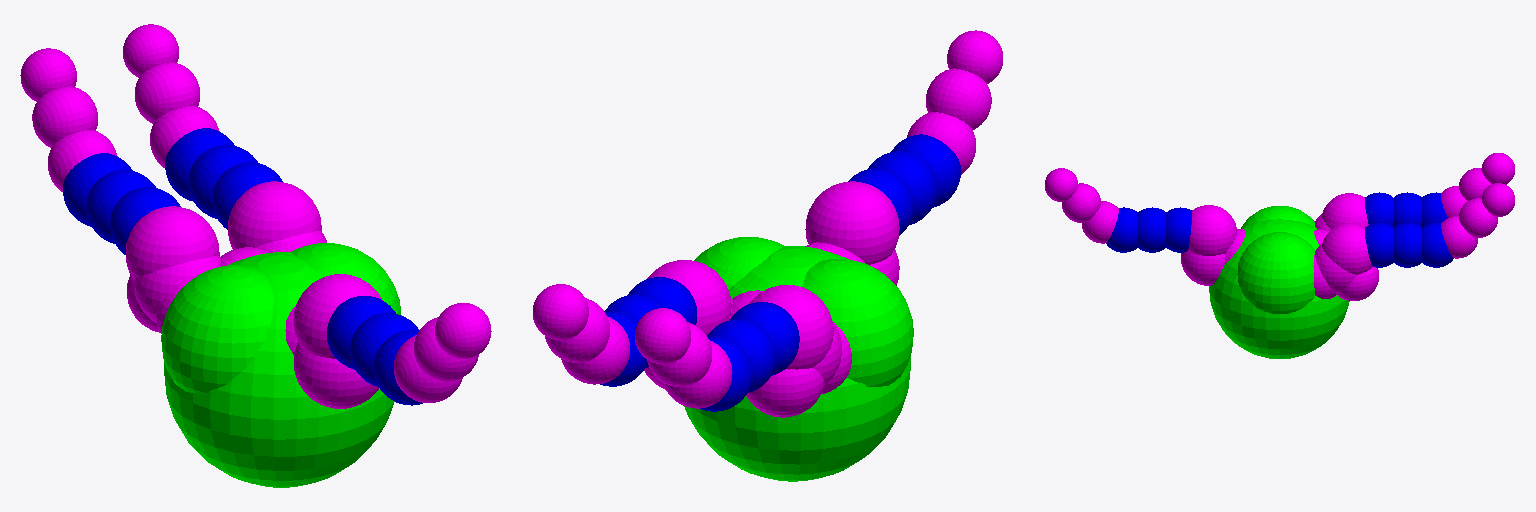
--- What the picture shows (computed from the rendered views, not written in the file) ---
The picture shows the robot from 3 angles, left to right: view 1: azimuth 30°, elevation 25°; view 2: azimuth 150°, elevation 25°; view 3: azimuth 270°, elevation 25°; orthographic projection.
Robot: bhand_model — 50 links, 49 joints (11 revolute, 3 prismatic, 35 fixed); root link base_link_x; default pose: every joint at zero.
Links seen in each view (by area): view 1: base_link_collision_ball_4, base_link_collision_ball_6, finger_2_prox_link_collision_ball_4, finger_1_prox_link_collision_ball_4, base_link_collision_ball_3, base_link_collision_ball_2, finger_2_dist_link_collision_ball_1, finger_1_dist_link_collision_ball_1, base_link_collision_ball_5, finger_3_dist_link_collision_ball_2, finger_3_med_link_collision_ball_1, finger_1_med_liink_collision_ball_1 (+16 smaller); view 2: base_link_collision_ball_4, base_link_collision_ball_6, base_link_collision_ball_3, finger_2_prox_link_collision_ball_4, finger_3_dist_link_collision_ball_1, finger_1_prox_link_collision_ball_4, finger_2_prox_link_collision_ball_2, finger_2_dist_link_collision_ball_2, finger_1_dist_link_collision_ball_2, base_link_collision_ball_5, finger_2_med_link_collision_ball_1, finger_2_med_link_collision_ball_0 (+15 smaller); view 3: base_link_collision_ball_4, base_link_collision_ball_5, base_link_collision_ball_3, finger_1_prox_link_collision_ball_4, finger_2_prox_link_collision_ball_4, finger_1_med_liink_collision_ball_1, finger_3_med_link_collision_ball_1, finger_1_med_liink_collision_ball_0, base_link_collision_ball_2, finger_1_dist_link_collision_ball_1, finger_3_dist_link_collision_ball_1, finger_3_med_link_collision_ball_0 (+15 smaller).
Boxes of the visible links, x1,y1,x2,y2 form: base_link_collision_ball_4: (164,252,394,487); base_link_collision_ball_6: (161,265,273,393); finger_2_prox_link_collision_ball_4: (126,206,219,279); finger_1_prox_link_collision_ball_4: (228,181,321,249); base_link_collision_ball_3: (293,274,382,358); base_link_collision_ball_2: (294,342,378,408); finger_2_dist_link_collision_ball_1: (32,86,97,147); finger_1_dist_link_collision_ball_1: (135,62,199,123); base_link_collision_ball_5: (290,243,401,315); finger_3_dist_link_collision_ball_2: (435,303,491,358); finger_3_med_link_collision_ball_1: (350,313,418,386); finger_1_med_liink_collision_ball_1: (189,145,257,218); base_link_collision_ball_4: (684,246,910,481); base_link_collision_ball_6: (802,259,913,386); base_link_collision_ball_3: (805,181,899,264); finger_2_prox_link_collision_ball_4: (749,285,833,369); finger_3_dist_link_collision_ball_1: (926,68,991,129); finger_1_prox_link_collision_ball_4: (647,260,731,334); finger_2_prox_link_collision_ball_2: (746,368,824,417); finger_2_dist_link_collision_ball_2: (635,308,690,364); finger_1_dist_link_collision_ball_2: (533,284,588,340); base_link_collision_ball_5: (694,237,783,289); finger_2_med_link_collision_ball_1: (707,319,775,392); finger_2_med_link_collision_ball_0: (730,302,799,375); base_link_collision_ball_4: (1209,219,1349,358); base_link_collision_ball_5: (1237,232,1315,313); base_link_collision_ball_3: (1188,205,1236,255); finger_1_prox_link_collision_ball_4: (1322,223,1372,274); finger_2_prox_link_collision_ball_4: (1322,193,1368,229); finger_1_med_liink_collision_ball_1: (1394,222,1421,267); finger_3_med_link_collision_ball_1: (1138,207,1165,252); finger_1_med_liink_collision_ball_0: (1365,222,1393,267); base_link_collision_ball_2: (1181,251,1224,285); finger_1_dist_link_collision_ball_1: (1459,198,1497,237); finger_3_dist_link_collision_ball_1: (1062,183,1100,222); finger_3_med_link_collision_ball_0: (1166,207,1191,252).
Bounding box of the posed robot: 0.108 × 0.3319 × 0.1428 m (x, y, z).
0 mesh visuals loaded from 4 distinct referenced files (none loaded); not drawn: 9 (reference not matched to a file when rendering).

robot.urdf — bhand_model:
<robot name="bhand_model">
  <link name="base_link_x"/>

  <joint name="dummy_x_translation_joint" type="prismatic">
    <parent link="base_link_x"/>
    <child link="base_link_y"/>
    <origin rpy="0 0 0" xyz="0 0 0"/>
    <axis xyz="1 0 0"/>
    <limit effort="300" lower="-10" upper="10" velocity="2.1750"/>
  </joint>

  <link name="base_link_y"/>

  <joint name="dummy_y_translation_joint" type="prismatic">
    <parent link="base_link_y"/>
    <child link="base_link_z"/>
    <origin rpy="0 0 0" xyz="0 0 0"/>
    <axis xyz="0 1 0"/>
    <limit effort="300" lower="-10" upper="10" velocity="2.1750"/>
  </joint>

  <link name="base_link_z"/>

  <joint name="dummy_z_translation_joint" type="prismatic">
    <parent link="base_link_z"/>
    <child link="base_link_roll"/>
    <origin rpy="0 0 0" xyz="0 0 0"/>
    <axis xyz="0 0 1"/>
    <limit effort="300" lower="-10" upper="10" velocity="2.1750"/>
  </joint>

  <link name="base_link_roll"/>

  <joint name="dummy_x_rotation_joint" type="revolute">
    <parent link="base_link_roll"/>
    <child link="base_link_pitch"/>
    <origin rpy="0 0 0" xyz="0 0 0"/>
    <axis xyz="1 0 0"/>
    <limit effort="100.95" velocity="108.48" lower="-6.283185" upper="6.283185"/>
  </joint>

  <link name="base_link_pitch"/>

  <joint name="dummy_y_rotation_joint" type="revolute">
    <parent link="base_link_pitch"/>
    <child link="base_link_yaw"/>
    <origin rpy="0 0 0" xyz="0 0 0"/>
    <axis xyz="0 1 0"/>
    <limit effort="100.95" velocity="108.48" lower="-6.283185" upper="6.283185"/>
  </joint>

  <link name="base_link_yaw"/>

  <joint name="dummy_z_rotation_joint" type="revolute">
    <parent link="base_link_yaw"/>
    <child link="base_link"/>
    <origin rpy="0 0 0" xyz="0 0 0"/>
    <axis xyz="0 0 1"/>
    <limit effort="100.95" velocity="108.48" lower="-6.283185" upper="6.283185"/>
  </joint>


  <link name="base_link">
    <inertial>
      <origin xyz="-1.53444878605399E-05 -0.00277693660903533 0.0352882290973172" rpy="0 0 0"/>
      <mass value="0.377966381303299"/>
      <inertia ixx="0.000427326373018601" ixy="2.6443337984506E-07" ixz="-2.02908063714989E-07" iyy="0.000361316175967098" iyz="-3.0792687327603E-05" izz="0.000376798128588446"/>
    </inertial>
    <visual>
      <origin xyz="0 0 0" rpy="0 0 0"/>
      <geometry>
        <mesh filename="meshes/visual/base_link.obj"/>
      </geometry>
    </visual>
    <collision> 
      <origin xyz="0 0 0" rpy="0 0 0"/>
      <geometry>
        <mesh filename="meshes/collision/base_link_cylinder.obj"/>
      </geometry>
    </collision>
    <collision> 
      <origin xyz="0 -0.011 0.054" rpy="0 0 0"/>
      <geometry>
        <box size="0.026 0.108 0.026"/>
      </geometry>
    </collision>
    <collision>
      <origin xyz="0 0 0.072" rpy="0 0 0"/>
      <geometry>
        <box size="0.076 0.046 0.014"/>
      </geometry>
    </collision>
    <collision>
      <origin xyz="0 0.032 0.068" rpy="-0.39 0 0"/>
      <geometry>
        <box size="0.026 0.02 0.01"/>
      </geometry>
    </collision>
    <collision>
      <origin xyz="0 -0.035 0.07" rpy="-1.03 0 0"/>
      <geometry>
        <box size="0.026 0.02 0.01"/>
      </geometry>
    </collision>
  </link>

  <!-- base_link balls -->

   <link name="base_link_collision_ball_0">
    <visual>
    <geometry>
    <sphere radius="0.02"/>
    </geometry>
    <material name="purple">
    <color rgba="1.0 0.0 1.0 1.0"/>
    </material>
    </visual>
    <collision>
    <geometry>
    <sphere radius="0.02"/>
    </geometry>
    </collision>
  </link>
  <joint name="base_link_collision_ball_0_joint" type="fixed">
    <parent link="base_link"/>
    <child link="base_link_collision_ball_0"/>
    <origin rpy="0 0 0" xyz="0.0 0.028 0.056 "/>
  </joint>


   <link name="base_link_collision_ball_1">
    <visual>
    <geometry>
    <sphere radius="0.02"/>
    </geometry>
    <material name="purple">
    <color rgba="1.0 0.0 1.0 1.0"/>
    </material>
    </visual>
    <collision>
    <geometry>
    <sphere radius="0.02"/>
    </geometry>
    </collision>
  </link>
  <joint name="base_link_collision_ball_1_joint" type="fixed">
    <parent link="base_link"/>
    <child link="base_link_collision_ball_1"/>
    <origin rpy="0 0 0" xyz="0.0 -0.028 0.056 "/>
  </joint>

  <link name="base_link_collision_ball_2">
    <visual>
    <geometry>
    <sphere radius="0.02"/>
    </geometry>
    <material name="purple">
    <color rgba="1.0 0.0 1.0 1.0"/>
    </material>
    </visual>
    <collision>
    <geometry>
    <sphere radius="0.02"/>
    </geometry>
    </collision>
  </link>
  <joint name="base_link_collision_ball_2_joint" type="fixed">
    <parent link="base_link"/>
    <child link="base_link_collision_ball_2"/>
    <origin rpy="0 0 0" xyz="0.0 -0.05 0.056 "/>
  </joint>


  <link name="base_link_collision_ball_3">
    <visual>
    <geometry>
    <sphere radius="0.02"/>
    </geometry>
    <material name="purple">
    <color rgba="1.0 0.0 1.0 1.0"/>
    </material>
    </visual>
    <collision>
    <geometry>
    <sphere radius="0.02"/>
    </geometry>
    </collision>
  </link>
  <joint name="base_link_collision_ball_3_joint" type="fixed">
    <parent link="base_link"/>
    <child link="base_link_collision_ball_3"/>
    <origin rpy="0 0 0" xyz="0.0 -0.05 0.075 "/>
  </joint>

  <link name="base_link_collision_ball_4">
    <visual>
    <geometry>
    <sphere radius="0.05"/>
    </geometry>
    <material name="green">
    <color rgba="0.0 1.0 0.0 1.0"/>
    </material>
    </visual>
    <collision>
    <geometry>
    <sphere radius="0.05"/>
    </geometry>
    </collision>
  </link>
  <joint name="base_link_collision_ball_4_joint" type="fixed">
    <parent link="base_link"/>
    <child link="base_link_collision_ball_4"/>
    <origin rpy="0 0 0" xyz="0.0 0.0 0.032 "/>
  </joint>
  

  <link name="base_link_collision_ball_5">
    <visual>
    <geometry>
    <sphere radius="0.032"/>
    </geometry>
    <material name="green">
    <color rgba="0.0 1.0 0.0 1.0"/>
    </material>
    </visual>
    <collision>
    <geometry>
    <sphere radius="0.032"/>
    </geometry>
    </collision>
  </link>
  <joint name="base_link_collision_ball_5_joint" type="fixed">
    <parent link="base_link"/>
    <child link="base_link_collision_ball_5"/>
    <origin rpy="0 0 0" xyz="0.022 0.0 0.051 "/>
  </joint> 

   <link name="base_link_collision_ball_6">
    <visual>
    <geometry>
    <sphere radius="0.032"/>
    </geometry>
    <material name="green">
    <color rgba="0.0 1.0 0.0 1.0"/>
    </material>
    </visual>
    <collision>
    <geometry>
    <sphere radius="0.032"/>
    </geometry>
    </collision>
  </link>
  <joint name="base_link_collision_ball_6_joint" type="fixed">
    <parent link="base_link"/>
    <child link="base_link_collision_ball_6"/>
    <origin rpy="0 0 0" xyz="-0.022 0.0 0.051 "/>
  </joint> 
  <!--  -->



  <link name="finger_1_prox_link">
    <inertial>
      <origin xyz="-0.288648917008988 9.98379746692153E-04 0.171253477569802" rpy="0 0 0"/>
      <mass value="56143.0626955765E-5"/>
      <inertia ixx="10.4484040652085E-5" ixy="-0.117861448219975E-5" ixz="-5.31613760585343E-5" iyy="33.9552353012776E-5" iyz="0.0780041192837706E-5" izz="29.3669090518615E-5"/>
    </inertial>
    <visual>
      <origin xyz="0 0 0" rpy="0 0 0"/>
      <geometry>
        <mesh filename="meshes/visual/prox_link.obj"/>
      </geometry>
    </visual>
    <collision>   <!-- finger1_prox_link -->
      <origin xyz="0 0 0" rpy="0 0 0"/>
      <geometry>
        <mesh filename="meshes/collision/prox_link_cylinder.obj"/>
      </geometry>
    </collision>
    <collision>
      <origin xyz="-0.029 0 0.012" rpy="0 0 0"/>
      <geometry>
        <box size="0.07 0.024 0.026"/>
      </geometry>
    </collision>
    <collision>
      <origin xyz="-0.036 0 0.03" rpy="0 1.029 0"/>
      <geometry>
        <box size="0.02 0.026 0.01"/>
      </geometry>
    </collision>
  </link>
  <joint name="finger_1_prox_joint" type="revolute">
    <origin xyz="0.025 0 0.0415" rpy="0 2.7051E-17 -1.5708"/>
    <parent link="base_link"/>
    <child link="finger_1_prox_link"/>
    <axis xyz="0 0 1"/>
    <limit lower="-3.14" upper="0" effort="0" velocity="10"/>
  </joint>

  <!-- finger_1_prox_link balls -->
  <link name="finger_1_prox_link_collision_ball_0">
    <visual>
    <geometry>
    <sphere radius="0.018"/>
    </geometry>
    <material name="purple">
    <color rgba="1.0 0.0 1.0 1.0"/>
    </material>
    </visual>
    <collision>
    <geometry>
    <sphere radius="0.018"/>
    </geometry>
    </collision>
  </link>
  <joint name="finger_1_prox_link_collision_ball_0_joint" type="fixed">
    <parent link="finger_1_prox_link"/>
    <child link="finger_1_prox_link_collision_ball_0"/>
    <origin rpy="0 0 0" xyz="-0.005 0 0.012 "/>
  </joint>
 
  <link name="finger_1_prox_link_collision_ball_1">
    <visual>
    <geometry>
    <sphere radius="0.018"/>
    </geometry>
    <material name="purple">
    <color rgba="1.0 0.0 1.0 1.0"/>
    </material>
    </visual>
    <collision>
    <geometry>
    <sphere radius="0.018"/>
    </geometry>
    </collision>
  </link>
  <joint name="finger_1_prox_link_collision_ball_1_joint" type="fixed">
    <parent link="finger_1_prox_link"/>
    <child link="finger_1_prox_link_collision_ball_1"/>
    <origin rpy="0 0 0" xyz="-0.028 0 0.012 "/>
  </joint>


  <link name="finger_1_prox_link_collision_ball_2">
    <visual>
    <geometry>
    <sphere radius="0.018"/>
    </geometry>
    <material name="purple">
    <color rgba="1.0 0.0 1.0 1.0"/>
    </material>
    </visual>
    <collision>
    <geometry>
    <sphere radius="0.018"/>
    </geometry>
    </collision>
  </link>
  <joint name="finger_1_prox_link_collision_ball_2_joint" type="fixed">
    <parent link="finger_1_prox_link"/>
    <child link="finger_1_prox_link_collision_ball_2"/>
    <origin rpy="0 0 0" xyz="-0.052 0 0.012 "/>
  </joint>

  
  <link name="finger_1_prox_link_collision_ball_3">
    <visual>
    <geometry>
    <sphere radius="0.02"/>
    </geometry>
    <material name="purple">
    <color rgba="1.0 0.0 1.0 1.0"/>
    </material>
    </visual>
    <collision>
    <geometry>
    <sphere radius="0.02"/>
    </geometry>
    </collision>
  </link>
  <joint name="finger_1_prox_link_collision_ball_3_joint" type="fixed">
    <parent link="finger_1_prox_link"/>
    <child link="finger_1_prox_link_collision_ball_3"/>
    <origin rpy="0 0 0" xyz="-0.042 0 0.02 "/>
  </joint>

  <link name="finger_1_prox_link_collision_ball_4">
    <visual>
    <geometry>
    <sphere radius="0.02"/>
    </geometry>
    <material name="purple">
    <color rgba="1.0 0.0 1.0 1.0"/>
    </material>
    </visual>
    <collision>
    <geometry>
    <sphere radius="0.02"/>
    </geometry>
    </collision>
  </link>
  <joint name="finger_1_prox_link_collision_ball_4_joint" type="fixed">
    <parent link="finger_1_prox_link"/>
    <child link="finger_1_prox_link_collision_ball_4"/>
    <origin rpy="0 0 0" xyz="-0.049 0 0.031 "/>
  </joint>
  <!--  -->



  <link name="finger_1_med_liink">
    <inertial>
      <origin xyz="-0.030918176135544 0.0019693024932544 0.000743369842666108" rpy="0 0 0"/>
      <mass value="31321.1214212939E-5"/>
      <inertia ixx="2.18512832127284E-5" ixy="-0.844484268309696E-5" ixz="0.0135401272401385E-5" iyy="17.3596441998536E-5" iyz="-0.001126692167519E-5" izz="17.7656644395659E-5"/>
    </inertial>
    <visual>
      <origin xyz="0 0 0" rpy="0 0 0"/>
      <geometry>
        <mesh filename="meshes/visual/med_link.obj"/>
      </geometry>
    </visual>
    <collision> <!-- finger1_med_link -->
      <origin xyz="-0.04 0.003 0.001" rpy="0 0 0"/>
      <geometry>
        <box size="0.036 0.024 0.018"/>
      </geometry>
    </collision>
    <collision>
      <origin xyz="-0.006 0.001 0.001" rpy="0 0 0"/>
      <geometry>
        <box size="0.032 0.022 0.01"/>
      </geometry>
    </collision>
    <collision>
      <origin xyz="-0.068 0.003 0.001" rpy="0 0 0"/>
      <geometry>
        <box size="0.02 0.022 0.01"/>
      </geometry>
    </collision>
    <collision>
      <origin xyz="-0.019 0.001 0.001" rpy="0 0 0"/>
      <geometry>
        <box size="0.008 0.022 0.018"/>
      </geometry>
    </collision>
  </link>
  <joint name="finger_1_med_joint" type="revolute">
    <origin xyz="-0.05 0 0.0339" rpy="1.5708 -8.8281E-17 0"/>
    <parent link="finger_1_prox_link"/>
    <child link="finger_1_med_liink"/>
    <axis xyz="0 0 1"/>
    <limit lower="-2.44" upper="0" effort="0" velocity="10"/>
  </joint>

  <!-- finger_1_med_link balls -->
  <link name="finger_1_med_liink_collision_ball_0">
    <visual>
    <geometry>
    <sphere radius="0.016"/>
    </geometry>
    <material name="blue">
    <color rgba="0.0 0.0 1.0 1.0"/>
    </material>
    </visual>
    <collision>
    <geometry>
    <sphere radius="0.016"/>
    </geometry>
    </collision>
  </link>
  <joint name="finger_1_med_liink_collision_ball_0_joint" type="fixed">
    <parent link="finger_1_med_liink"/>
    <child link="finger_1_med_liink_collision_ball_0"/>
    <origin rpy="0 0 0" xyz="-0.02 0.002 0.0 "/>
  </joint>

  <link name="finger_1_med_liink_collision_ball_1">
    <visual>
    <geometry>
    <sphere radius="0.016"/>
    </geometry>
    <material name="blue">
    <color rgba="0.0 0.0 1.0 1.0"/>
    </material>
    </visual>
    <collision>
    <geometry>
    <sphere radius="0.016"/>
    </geometry>
    </collision>
  </link>
  <joint name="finger_1_med_liink_collision_ball_1_joint" type="fixed">
    <parent link="finger_1_med_liink"/>
    <child link="finger_1_med_liink_collision_ball_1"/>
    <origin rpy="0 0 0" xyz="-0.04 0.002 0.0 "/>
  </joint>


  <link name="finger_1_med_liink_collision_ball_2">
    <visual>
    <geometry>
    <sphere radius="0.016"/>
    </geometry>
    <material name="blue">
    <color rgba="0.0 0.0 1.0 1.0"/>
    </material>
    </visual>
    <collision>
    <geometry>
    <sphere radius="0.016"/>
    </geometry>
    </collision>
  </link>
  <joint name="finger_1_med_liink_collision_ball_2_joint" type="fixed">
    <parent link="finger_1_med_liink"/>
    <child link="finger_1_med_liink_collision_ball_2"/>
    <origin rpy="0 0 0" xyz="-0.06 0.002 0.0 "/>
  </joint>
  <!--  -->




  <link name="finger_1_dist_link">
    <inertial>
      <origin xyz="-0.018331495851456 0.017563370050582 0.000497127783315291" rpy="0 0 0"/>
      <mass value="19342.3312257343E-5"/>
      <inertia ixx="3.67466110522623E-5" ixy="-2.57800680786605E-5" ixz="-0.0345727635031181E-5" iyy="4.08727012680705E-5" iyz="0.0329223427372985E-5" izz="5.99395386650428E-5"/>
    </inertial>
    <visual>
      <origin xyz="0 0 0" rpy="0 0 0"/>
      <geometry>
        <mesh filename="meshes/visual/dist_link.obj"/>
      </geometry>
    </visual>
    <collision> <!-- finger1_disk_link -->
      <origin xyz="-0.022 0.023 0" rpy="0 0 0.8988"/>
      <geometry>
        <box size="0.014 0.038 0.02"/>
      </geometry>
    </collision>
    <collision>
      <origin xyz="-0.002 0.002 0" rpy="0 0 0.7766"/>
      <geometry>
        <box size="0.018 0.022 0.02"/>
      </geometry>
    </collision>
    <collision>
      <origin xyz="-0.038 0.034 0" rpy="0 0 1.614"/>
      <geometry>
        <box size="0.012 0.012 0.02"/>
      </geometry>
    </collision>
  </link>
  <joint name="finger_1_dist_joint" type="revolute">
    <origin xyz="-0.069936 0.003 0" rpy="1.6787E-18 -3.6382E-15 -6.1073E-33"/>
    <parent link="finger_1_med_liink"/>
    <child link="finger_1_dist_link"/>
    <axis xyz="0 0 1"/>
    <limit lower="-0.785" upper="0" effort="0" velocity="10"/>
  </joint>


  
  <!-- finger_1_dist_link balls -->
  <link name="finger_1_dist_link_collision_ball_0">
    <visual>
    <geometry>
    <sphere radius="0.015"/>
    </geometry>
    <material name="pure">
    <color rgba="1.0 0.0 1.0 1.0"/>
    </material>
    </visual>
    <collision>
    <geometry>
    <sphere radius="0.015"/>
    </geometry>
    </collision>
  </link>
  <joint name="finger_1_dist_link_collision_ball_0_joint" type="fixed">
    <parent link="finger_1_dist_link"/>
    <child link="finger_1_dist_link_collision_ball_0"/>
    <origin rpy="0 0 0" xyz="-0.005 0.005 0.0 "/>
  </joint>

  <link name="finger_1_dist_link_collision_ball_1">
    <visual>
    <geometry>
    <sphere radius="0.014"/>
    </geometry>
    <material name="pure">
    <color rgba="1.0 0.0 1.0 1.0"/>
    </material>
    </visual>
    <collision>
    <geometry>
    <sphere radius="0.014"/>
    </geometry>
    </collision>
  </link>
  <joint name="finger_1_dist_link_collision_ball_1_joint" type="fixed">
    <parent link="finger_1_dist_link"/>
    <child link="finger_1_dist_link_collision_ball_1"/>
    <origin rpy="0 0 0" xyz="-0.02 0.02 0.0 "/>
  </joint>

  <link name="finger_1_dist_link_collision_ball_2">
    <visual>
    <geometry>
    <sphere radius="0.012"/>
    </geometry>
    <material name="pure">
    <color rgba="1.0 0.0 1.0 1.0"/>
    </material>
    </visual>
    <collision>
    <geometry>
    <sphere radius="0.012"/>
    </geometry>
    </collision>
  </link>
  <joint name="finger_1_dist_link_collision_ball_2_joint" type="fixed">
    <parent link="finger_1_dist_link"/>
    <child link="finger_1_dist_link_collision_ball_2"/>
    <origin rpy="0 0 0" xyz="-0.034 0.034 0.0 "/>
  </joint>
  <!--  -->



  <link name="finger_2_prox_link">
    <inertial>
      <origin xyz="-0.288648917008987 9.98379746692118E-04 0.171253477569802" rpy="0 0 0"/>
      <mass value="56143.0626955765E-5"/>
      <inertia ixx="10.4484040652085E-5" ixy="-0.117861448219975E-5" ixz="-5.31613760585343E-5" iyy="33.9552353012776E-5" iyz="0.0780041192837701E-5" izz="29.3669090518615E-5"/>
    </inertial>
    <visual>
      <origin xyz="0 0 0" rpy="0 0 0"/>
      <geometry>
        <mesh filename="meshes/visual/prox_link.obj"/>
      </geometry>
    </visual>
    <collision>   <!-- finger2_prox_link -->
      <origin xyz="0 0 0" rpy="0 0 0"/>
      <geometry>
        <mesh filename="meshes/collision/prox_link_cylinder.obj"/>
      </geometry>
    </collision>
    <collision>
      <origin xyz="-0.029 0 0.012" rpy="0 0 0"/>
      <geometry>
        <box size="0.07 0.024 0.026"/>
      </geometry>
    </collision>
    <collision>
      <origin xyz="-0.036 0 0.03" rpy="0 1.029 0"/>
      <geometry>
        <box size="0.02 0.026 0.01"/>
      </geometry>
    </collision>
  </link>
  <joint name="finger_2_prox_joint" type="revolute">
    <origin xyz="-0.025 0 0.0415" rpy="0 2.7051E-17 -1.5708"/>
    <parent link="base_link"/>
    <child link="finger_2_prox_link"/>
    <axis xyz="0 0 1"/>
    <limit lower="0" upper="3.14" effort="0" velocity="10"/>
  </joint>

  <!-- finger_2_prox_link balls -->
  <link name="finger_2_prox_link_collision_ball_0">
    <visual>
    <geometry>
    <sphere radius="0.018"/>
    </geometry>
    <material name="purple">
    <color rgba="1.0 0.0 1.0 1.0"/>
    </material>
    </visual>
    <collision>
    <geometry>
    <sphere radius="0.018"/>
    </geometry>
    </collision>
  </link>
  <joint name="finger_2_prox_link_collision_ball_0_joint" type="fixed">
    <parent link="finger_2_prox_link"/>
    <child link="finger_2_prox_link_collision_ball_0"/>
    <origin rpy="0 0 0" xyz="-0.005 0 0.012 "/>
  </joint>
 
  <link name="finger_2_prox_link_collision_ball_1">
    <visual>
    <geometry>
    <sphere radius="0.018"/>
    </geometry>
    <material name="purple">
    <color rgba="1.0 0.0 1.0 1.0"/>
    </material>
    </visual>
    <collision>
    <geometry>
    <sphere radius="0.018"/>
    </geometry>
    </collision>
  </link>
  <joint name="finger_2_prox_link_collision_ball_1_joint" type="fixed">
    <parent link="finger_2_prox_link"/>
    <child link="finger_2_prox_link_collision_ball_1"/>
    <origin rpy="0 0 0" xyz="-0.028 0 0.012 "/>
  </joint>


  <link name="finger_2_prox_link_collision_ball_2">
    <visual>
    <geometry>
    <sphere radius="0.018"/>
    </geometry>
    <material name="purple">
    <color rgba="1.0 0.0 1.0 1.0"/>
    </material>
    </visual>
    <collision>
    <geometry>
    <sphere radius="0.018"/>
    </geometry>
    </collision>
  </link>
  <joint name="finger_2_prox_link_collision_ball_2_joint" type="fixed">
    <parent link="finger_2_prox_link"/>
    <child link="finger_2_prox_link_collision_ball_2"/>
    <origin rpy="0 0 0" xyz="-0.052 0 0.012 "/>
  </joint>

  
  <link name="finger_2_prox_link_collision_ball_3">
    <visual>
    <geometry>
    <sphere radius="0.02"/>
    </geometry>
    <material name="purple">
    <color rgba="1.0 0.0 1.0 1.0"/>
    </material>
    </visual>
    <collision>
    <geometry>
    <sphere radius="0.02"/>
    </geometry>
    </collision>
  </link>
  <joint name="finger_2_prox_link_collision_ball_3_joint" type="fixed">
    <parent link="finger_2_prox_link"/>
    <child link="finger_2_prox_link_collision_ball_3"/>
    <origin rpy="0 0 0" xyz="-0.042 0 0.02 "/>
  </joint>

  <link name="finger_2_prox_link_collision_ball_4">
    <visual>
    <geometry>
    <sphere radius="0.02"/>
    </geometry>
    <material name="purple">
    <color rgba="1.0 0.0 1.0 1.0"/>
    </material>
    </visual>
    <collision>
    <geometry>
    <sphere radius="0.02"/>
    </geometry>
    </collision>
  </link>
  <joint name="finger_2_prox_link_collision_ball_4_joint" type="fixed">
    <parent link="finger_2_prox_link"/>
    <child link="finger_2_prox_link_collision_ball_4"/>
    <origin rpy="0 0 0" xyz="-0.049 0 0.031 "/>
  </joint>
  <!--  -->


  <link name="finger_2_med_link">
    <inertial>
      <origin xyz="-0.0309061378225848 0.00214997948654991 0.000743369814045599" rpy="0 0 0"/>
      <mass value="31321.1215499126E-5"/>
      <inertia ixx="2.19551825824831E-5" ixy="-0.933117181988174E-5" ixz="0.0135333166873642E-5" iyy="17.3492542935561E-5" iyz="-0.00120585854514789E-5" izz="17.7656644132238E-5"/>
    </inertial>
    <visual>
      <origin xyz="0 0 0" rpy="0 0 0"/>
      <geometry>
        <mesh filename="meshes/visual/med_link.obj"/>
      </geometry>
    </visual>
    <collision> <!-- finger2_med_link -->
      <origin xyz="-0.04 0.003 0.001" rpy="0 0 0"/>
      <geometry>
        <box size="0.036 0.024 0.018"/>
      </geometry>
    </collision>
    <collision>
      <origin xyz="-0.006 0.001 0.001" rpy="0 0 0"/>
      <geometry>
        <box size="0.032 0.022 0.01"/>
      </geometry>
    </collision>
    <collision>
      <origin xyz="-0.068 0.003 0.001" rpy="0 0 0"/>
      <geometry>
        <box size="0.02 0.022 0.01"/>
      </geometry>
    </collision>
    <collision>
      <origin xyz="-0.019 0.001 0.001" rpy="0 0 0"/>
      <geometry>
        <box size="0.008 0.022 0.018"/>
      </geometry>
    </collision>
  </link>
  <joint name="finger_2_med_joint" type="revolute">
    <origin xyz="-0.05 0 0.0339" rpy="1.5708 -8.8281E-17 0"/>
    <parent link="finger_2_prox_link"/>
    <child link="finger_2_med_link"/>
    <axis xyz="0 0 1"/>
    <limit lower="-2.44" upper="0" effort="0" velocity="10"/>
  </joint>

   <!-- finger_2_med_link balls -->
  <link name="finger_2_med_link_collision_ball_0">
    <visual>
    <geometry>
    <sphere radius="0.016"/>
    </geometry>
    <material name="blue">
    <color rgba="0.0 0.0 1.0 1.0"/>
    </material>
    </visual>
    <collision>
    <geometry>
    <sphere radius="0.016"/>
    </geometry>
    </collision>
  </link>
  <joint name="finger_2_med_link_collision_ball_0_joint" type="fixed">
    <parent link="finger_2_med_link"/>
    <child link="finger_2_med_link_collision_ball_0"/>
    <origin rpy="0 0 0" xyz="-0.02 0.002 0.0 "/>
  </joint>

  <link name="finger_2_med_link_collision_ball_1">
    <visual>
    <geometry>
    <sphere radius="0.016"/>
    </geometry>
    <material name="blue">
    <color rgba="0.0 0.0 1.0 1.0"/>
    </material>
    </visual>
    <collision>
    <geometry>
    <sphere radius="0.016"/>
    </geometry>
    </collision>
  </link>
  <joint name="finger_2_med_link_collision_ball_1_joint" type="fixed">
    <parent link="finger_2_med_link"/>
    <child link="finger_2_med_link_collision_ball_1"/>
    <origin rpy="0 0 0" xyz="-0.04 0.002 0.0 "/>
  </joint>


  <link name="finger_2_med_link_collision_ball_2">
    <visual>
    <geometry>
    <sphere radius="0.016"/>
    </geometry>
    <material name="blue">
    <color rgba="0.0 0.0 1.0 1.0"/>
    </material>
    </visual>
    <collision>
    <geometry>
    <sphere radius="0.016"/>
    </geometry>
    </collision>
  </link>
  <joint name="finger_2_med_link_collision_ball_2_joint" type="fixed">
    <parent link="finger_2_med_link"/>
    <child link="finger_2_med_link_collision_ball_2"/>
    <origin rpy="0 0 0" xyz="-0.06 0.002 0.0 "/>
  </joint>
  <!--  -->

  
  <link name="finger_2_dist_link">
    <inertial>
      <origin xyz="-0.0181940669984822 0.017705695005231 0.000497127783261171" rpy="0 0 0"/>
      <mass value="19342.3313295693E-5"/>
      <inertia ixx="3.71486604025429E-5" ixy="-2.58090906930852E-5" ixz="-0.0343151446338957E-5" iyy="4.04706522522361E-5" iyz="0.0331907761165059E-5" izz="5.99395390717116E-5"/>
    </inertial>
    <visual>
      <origin xyz="0 0 0" rpy="0 0 0"/>
      <geometry>
        <mesh filename="meshes/visual/dist_link.obj"/>
      </geometry>
    </visual>
    <collision> <!-- finger2_disk_link -->
      <origin xyz="-0.022 0.023 0" rpy="0 0 0.8988"/>
      <geometry>
        <box size="0.014 0.038 0.02"/>
      </geometry>
    </collision>
    <collision>
      <origin xyz="-0.002 0.002 0" rpy="0 0 0.7766"/>
      <geometry>
        <box size="0.018 0.022 0.02"/>
      </geometry>
    </collision>
    <collision>
      <origin xyz="-0.038 0.034 0" rpy="0 0 1.614"/>
      <geometry>
        <box size="0.012 0.012 0.02"/>
      </geometry>
    </collision>
  </link>
  <joint name="finger_2_dist_joint" type="revolute">
    <origin xyz="-0.069917 0.0034087 0" rpy="-3.1382E-17 -2.3229E-16 0"/>
    <parent link="finger_2_med_link"/>
    <child link="finger_2_dist_link"/>
    <axis xyz="0 0 1"/>
    <limit lower="-0.785" upper="0" effort="0" velocity="10"/>
  </joint>

   <!-- finger_2_dist_link balls -->
  <link name="finger_2_dist_link_collision_ball_0">
    <visual>
    <geometry>
    <sphere radius="0.015"/>
    </geometry>
    <material name="pure">
    <color rgba="1.0 0.0 1.0 1.0"/>
    </material>
    </visual>
    <collision>
    <geometry>
    <sphere radius="0.015"/>
    </geometry>
    </collision>
  </link>
  <joint name="finger_2_dist_link_collision_ball_0_joint" type="fixed">
    <parent link="finger_2_dist_link"/>
    <child link="finger_2_dist_link_collision_ball_0"/>
    <origin rpy="0 0 0" xyz="-0.005 0.005 0.0 "/>
  </joint>

  <link name="finger_2_dist_link_collision_ball_1">
    <visual>
    <geometry>
    <sphere radius="0.014"/>
    </geometry>
    <material name="pure">
    <color rgba="1.0 0.0 1.0 1.0"/>
    </material>
    </visual>
    <collision>
    <geometry>
    <sphere radius="0.014"/>
    </geometry>
    </collision>
  </link>
  <joint name="finger_2_dist_link_collision_ball_1_joint" type="fixed">
    <parent link="finger_2_dist_link"/>
    <child link="finger_2_dist_link_collision_ball_1"/>
    <origin rpy="0 0 0" xyz="-0.02 0.02 0.0 "/>
  </joint>

  <link name="finger_2_dist_link_collision_ball_2">
    <visual>
    <geometry>
    <sphere radius="0.012"/>
    </geometry>
    <material name="pure">
    <color rgba="1.0 0.0 1.0 1.0"/>
    </material>
    </visual>
    <collision>
    <geometry>
    <sphere radius="0.012"/>
    </geometry>
    </collision>
  </link>
  <joint name="finger_2_dist_link_collision_ball_2_joint" type="fixed">
    <parent link="finger_2_dist_link"/>
    <child link="finger_2_dist_link_collision_ball_2"/>
    <origin rpy="0 0 0" xyz="-0.034 0.034 0.0 "/>
  </joint>
  <!--  -->





  <link name="finger_3_med_link">
    <inertial>
      <origin xyz="-0.0309181761355441 0.00196930249325443 0.000743369842666415" rpy="0 0 0"/>
      <mass value="31321.121421294E-5"/>
      <inertia ixx="2.18512832127284E-5" ixy="-0.844484268309696E-5" ixz="0.0135401272400822E-5" iyy="17.3596441998537E-5" iyz="-0.0011266921675151E-5" izz="17.7656644395659E-5"/>
    </inertial>
    <visual>
      <origin xyz="0 0 0" rpy="0 0 0"/>
      <geometry>
        <mesh filename="meshes/visual/med_link.obj"/>
      </geometry>
    </visual>
    <collision> <!-- finger3_med_link -->
      <origin xyz="-0.04 0.003 0.001" rpy="0 0 0"/>
      <geometry>
        <box size="0.036 0.024 0.018"/>
      </geometry>
    </collision>
    <collision>
      <origin xyz="-0.006 0.001 0.001" rpy="0 0 0"/>
      <geometry>
        <box size="0.032 0.022 0.01"/>
      </geometry>
    </collision>
    <collision>
      <origin xyz="-0.068 0.003 0.001" rpy="0 0 0"/>
      <geometry>
        <box size="0.02 0.022 0.01"/>
      </geometry>
    </collision>
    <collision>
      <origin xyz="-0.019 0.001 0.001" rpy="0 0 0"/>
      <geometry>
        <box size="0.008 0.022 0.018"/>
      </geometry>
    </collision>
  </link>
  <joint name="finger_3_med_joint" type="revolute">
    <origin xyz="0 -0.05 0.0754" rpy="1.5708 6.123E-17 1.5708"/>
    <parent link="base_link"/>
    <child link="finger_3_med_link"/>
    <axis xyz="0 0 1"/>
    <limit lower="-2.44" upper="0" effort="0" velocity="10"/>
  </joint>

    <!-- finger_3_med_link balls -->
  <link name="finger_3_med_link_collision_ball_0">
    <visual>
    <geometry>
    <sphere radius="0.016"/>
    </geometry>
    <material name="blue">
    <color rgba="0.0 0.0 1.0 1.0"/>
    </material>
    </visual>
    <collision>
    <geometry>
    <sphere radius="0.016"/>
    </geometry>
    </collision>
  </link>
  <joint name="finger_3_med_link_collision_ball_0_joint" type="fixed">
    <parent link="finger_3_med_link"/>
    <child link="finger_3_med_link_collision_ball_0"/>
    <origin rpy="0 0 0" xyz="-0.02 0.002 0.0 "/>
  </joint>

  <link name="finger_3_med_link_collision_ball_1">
    <visual>
    <geometry>
    <sphere radius="0.016"/>
    </geometry>
    <material name="blue">
    <color rgba="0.0 0.0 1.0 1.0"/>
    </material>
    </visual>
    <collision>
    <geometry>
    <sphere radius="0.016"/>
    </geometry>
    </collision>
  </link>
  <joint name="finger_3_med_link_collision_ball_1_joint" type="fixed">
    <parent link="finger_3_med_link"/>
    <child link="finger_3_med_link_collision_ball_1"/>
    <origin rpy="0 0 0" xyz="-0.04 0.002 0.0 "/>
  </joint>


  <link name="finger_3_med_link_collision_ball_2">
    <visual>
    <geometry>
    <sphere radius="0.016"/>
    </geometry>
    <material name="blue">
    <color rgba="0.0 0.0 1.0 1.0"/>
    </material>
    </visual>
    <collision>
    <geometry>
    <sphere radius="0.016"/>
    </geometry>
    </collision>
  </link>
  <joint name="finger_3_med_link_collision_ball_2_joint" type="fixed">
    <parent link="finger_3_med_link"/>
    <child link="finger_3_med_link_collision_ball_2"/>
    <origin rpy="0 0 0" xyz="-0.06 0.002 0.0 "/>
  </joint>
  <!--  -->





  <link name="finger_3_dist_link">
    <inertial>
      <origin xyz="-0.0183314958518909 0.0175633700501297 0.000497127783323787" rpy="0 0 0"/>
      <mass value="19342.3312257343E-5"/>
      <inertia ixx="3.67466110509902E-5" ixy="-2.57800680785588E-5" ixz="-0.0345727635040649E-5" iyy="4.08727012693427E-5" iyz="0.0329223427365976E-5" izz="5.99395386650428E-5"/>
    </inertial>
    <visual>
      <origin xyz="0 0 0" rpy="0 0 0"/>
      <geometry>
        <mesh filename="meshes/visual/dist_link.obj"/>
      </geometry>
    </visual>
    <collision> <!-- finger3_disk_link -->
      <origin xyz="-0.022 0.023 0" rpy="0 0 0.8988"/>
      <geometry>
        <box size="0.014 0.038 0.02"/>
      </geometry>
    </collision>
    <collision>
      <origin xyz="-0.002 0.002 0" rpy="0 0 0.7766"/>
      <geometry>
        <box size="0.018 0.022 0.02"/>
      </geometry>
    </collision>
    <collision>
      <origin xyz="-0.038 0.034 0" rpy="0 0 1.614"/>
      <geometry>
        <box size="0.012 0.012 0.02"/>
      </geometry>
    </collision>
  </link>
  <joint name="finger_3_dist_joint" type="revolute">
    <origin xyz="-0.069936 0.003 0" rpy="6.0427E-17 -6.7283E-18 -4.0657E-34"/>
    <parent link="finger_3_med_link"/>
    <child link="finger_3_dist_link"/>
    <axis xyz="0 0 1"/>
    <limit lower="-0.785" upper="0" effort="0" velocity="10"/>
  </joint>


 <!-- finger_3_dist_link balls -->
  <link name="finger_3_dist_link_collision_ball_0">
    <visual>
    <geometry>
    <sphere radius="0.015"/>
    </geometry>
    <material name="pure">
    <color rgba="1.0 0.0 1.0 1.0"/>
    </material>
    </visual>
    <collision>
    <geometry>
    <sphere radius="0.015"/>
    </geometry>
    </collision>
  </link>
  <joint name="finger_3_dist_link_collision_ball_0_joint" type="fixed">
    <parent link="finger_3_dist_link"/>
    <child link="finger_3_dist_link_collision_ball_0"/>
    <origin rpy="0 0 0" xyz="-0.005 0.005 0.0 "/>
  </joint>

  <link name="finger_3_dist_link_collision_ball_1">
    <visual>
    <geometry>
    <sphere radius="0.014"/>
    </geometry>
    <material name="pure">
    <color rgba="1.0 0.0 1.0 1.0"/>
    </material>
    </visual>
    <collision>
    <geometry>
    <sphere radius="0.014"/>
    </geometry>
    </collision>
  </link>
  <joint name="finger_3_dist_link_collision_ball_1_joint" type="fixed">
    <parent link="finger_3_dist_link"/>
    <child link="finger_3_dist_link_collision_ball_1"/>
    <origin rpy="0 0 0" xyz="-0.02 0.02 0.0 "/>
  </joint>

  <link name="finger_3_dist_link_collision_ball_2">
    <visual>
    <geometry>
    <sphere radius="0.012"/>
    </geometry>
    <material name="pure">
    <color rgba="1.0 0.0 1.0 1.0"/>
    </material>
    </visual>
    <collision>
    <geometry>
    <sphere radius="0.012"/>
    </geometry>
    </collision>
  </link>
  <joint name="finger_3_dist_link_collision_ball_2_joint" type="fixed">
    <parent link="finger_3_dist_link"/>
    <child link="finger_3_dist_link_collision_ball_2"/>
    <origin rpy="0 0 0" xyz="-0.034 0.034 0.0 "/>
  </joint>
  <!--  -->
</robot>
